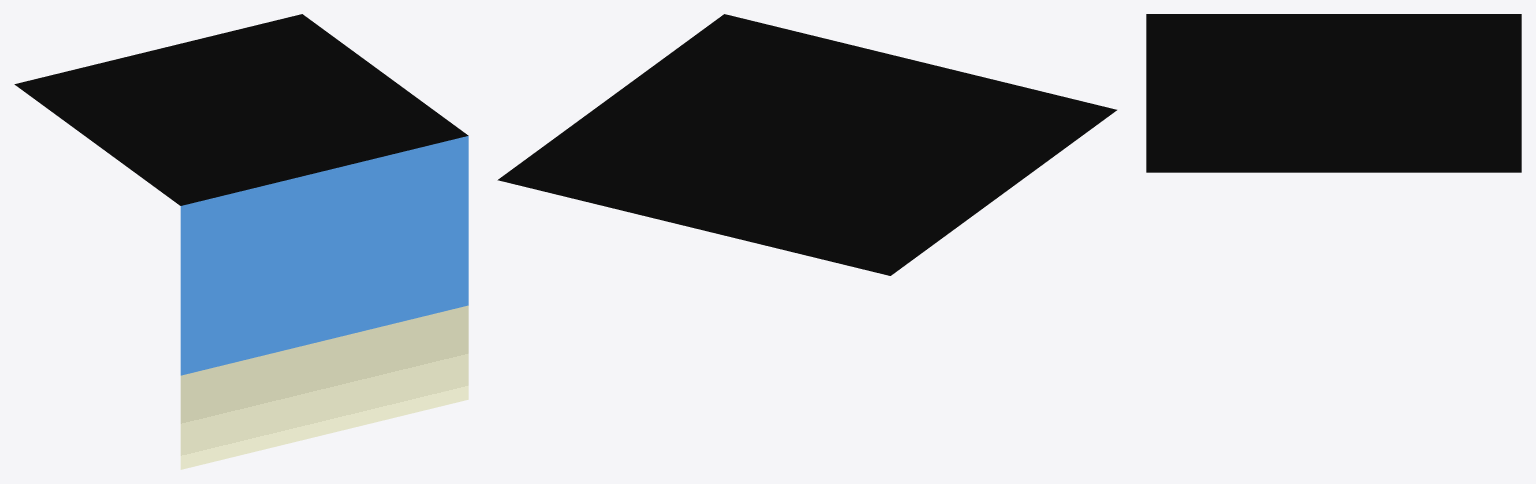
3 renders of one model, left to right at view 1: azimuth 30°, elevation 25°; view 2: azimuth 150°, elevation 25°; view 3: azimuth 270°, elevation 25°, orthographic. The views are drawn at different scales.
Size of the model in its own units: 1 by 0.875 by 1.
Materials: 2 (2 with a texture image).
